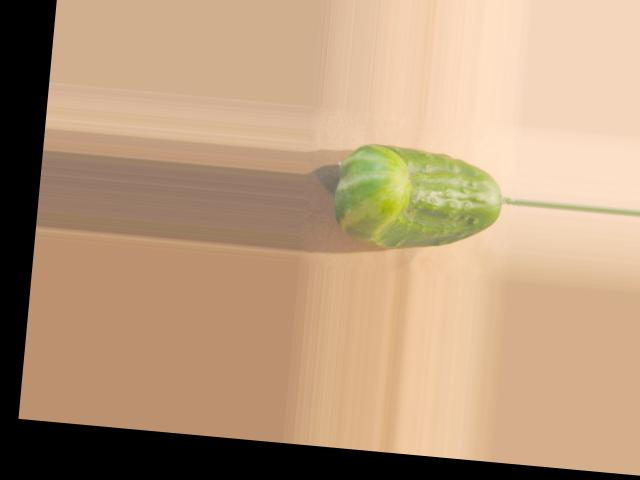cucumber: (331, 139, 507, 257)
